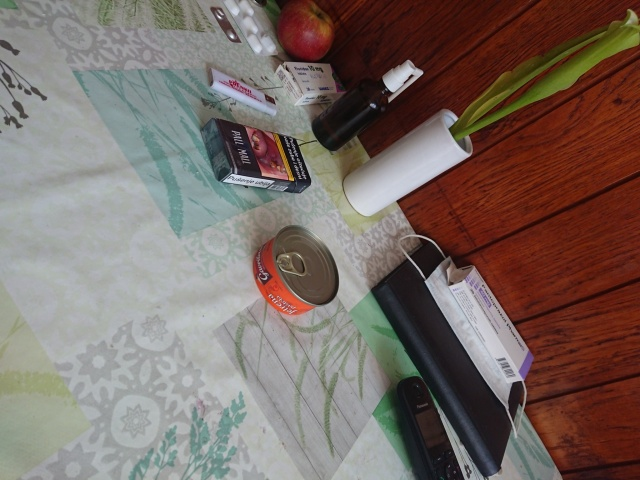Gavrilovic Pork Liver Pate 100g: (250, 222, 341, 317)
